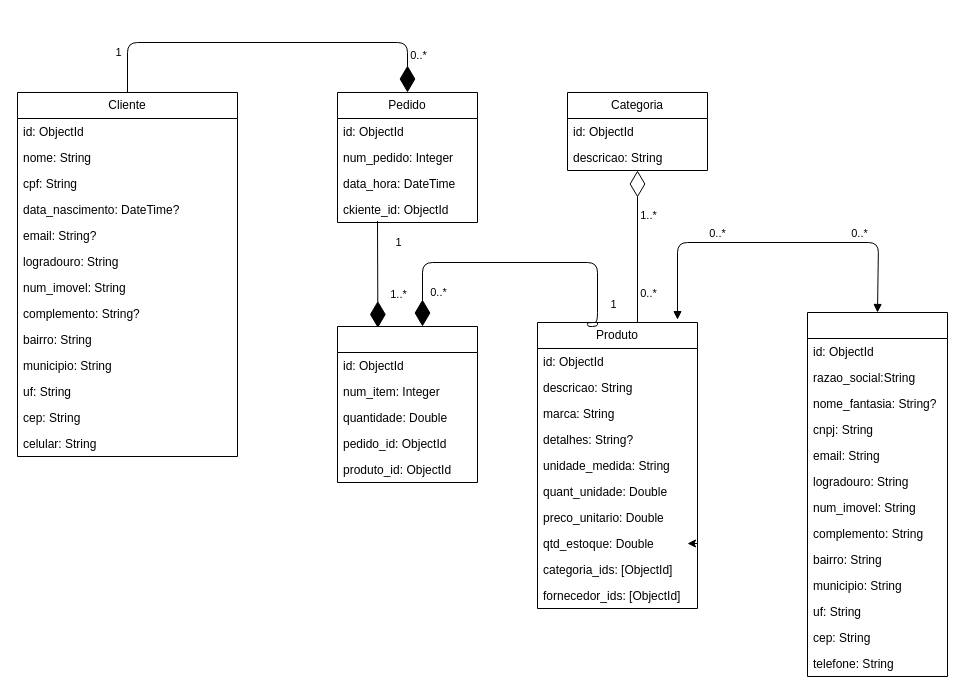
Image size: 965x697. Some labels were removed from this diagram. Here are the shapes that lost their labels. From the top down, the box of each, then its label:
(336, 326, 478, 482): ItemPedido
(806, 312, 948, 676): Fornecedor
